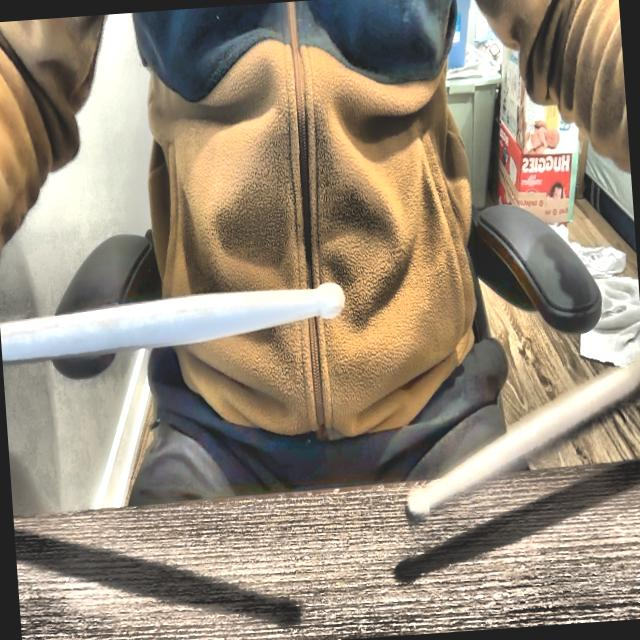Drumstick-Heads: (309, 270, 352, 327), (401, 466, 434, 524)
